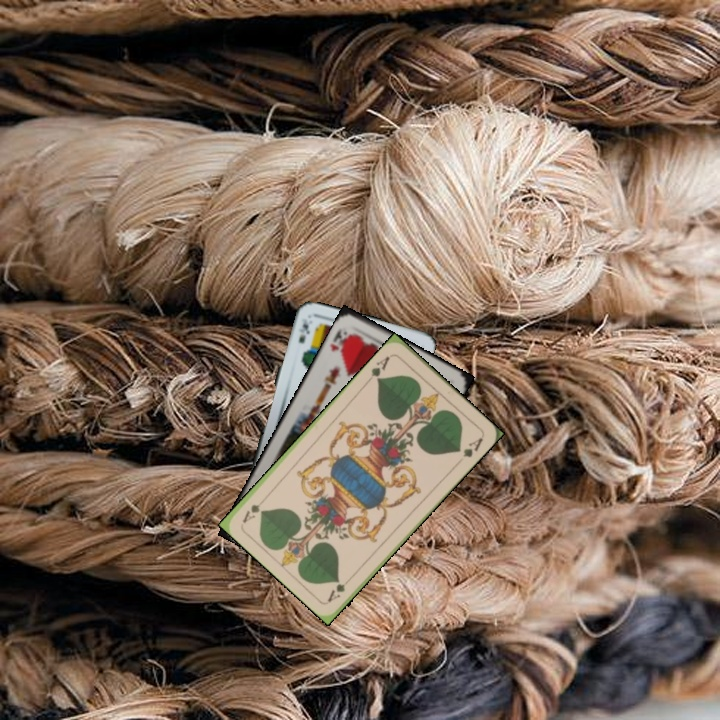EK: (295, 317, 311, 346)
GA: (324, 571, 356, 605), (364, 352, 395, 384)
HK: (326, 324, 354, 355)
